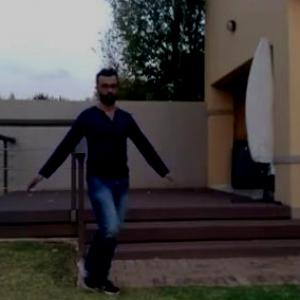land: (27, 71, 165, 296)
